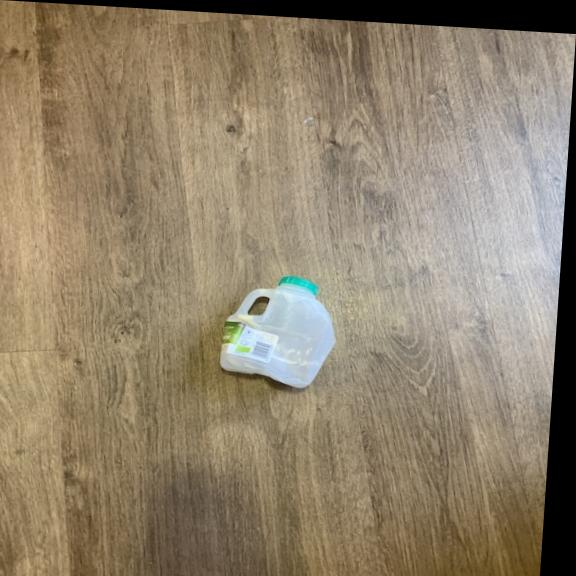Plastik: (212, 267, 350, 396)
